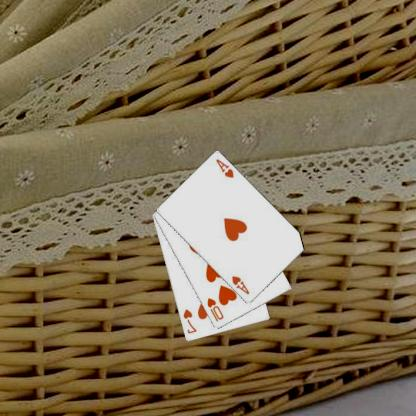10H: (206, 296, 226, 323)
7H: (182, 307, 200, 335)
AH: (215, 156, 237, 180), (231, 273, 253, 296)
